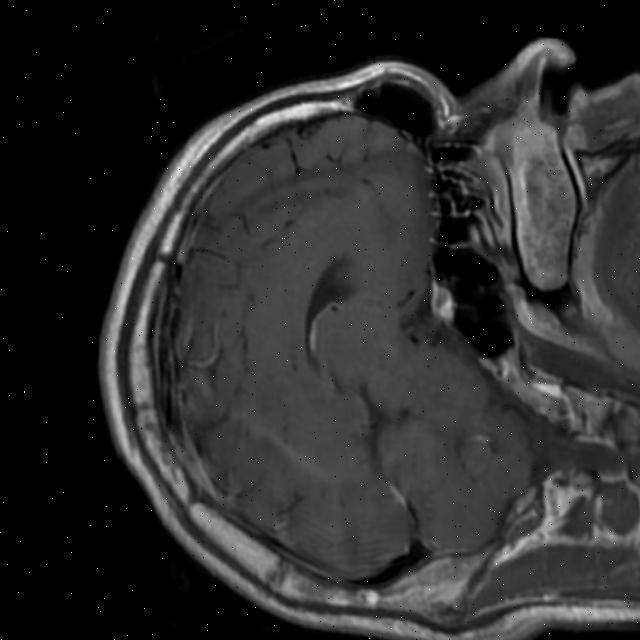Pituitary: (428, 274, 456, 321)
